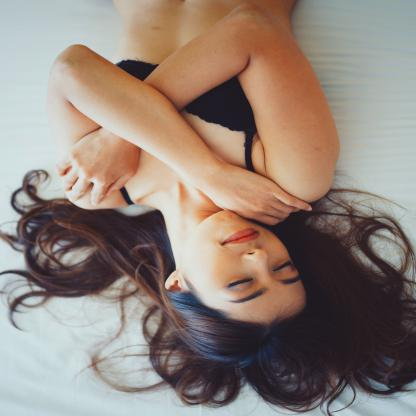Eye: (226, 277, 253, 290), (274, 260, 294, 272)
Mouth: (220, 227, 260, 246)
Nose: (242, 249, 270, 276)
